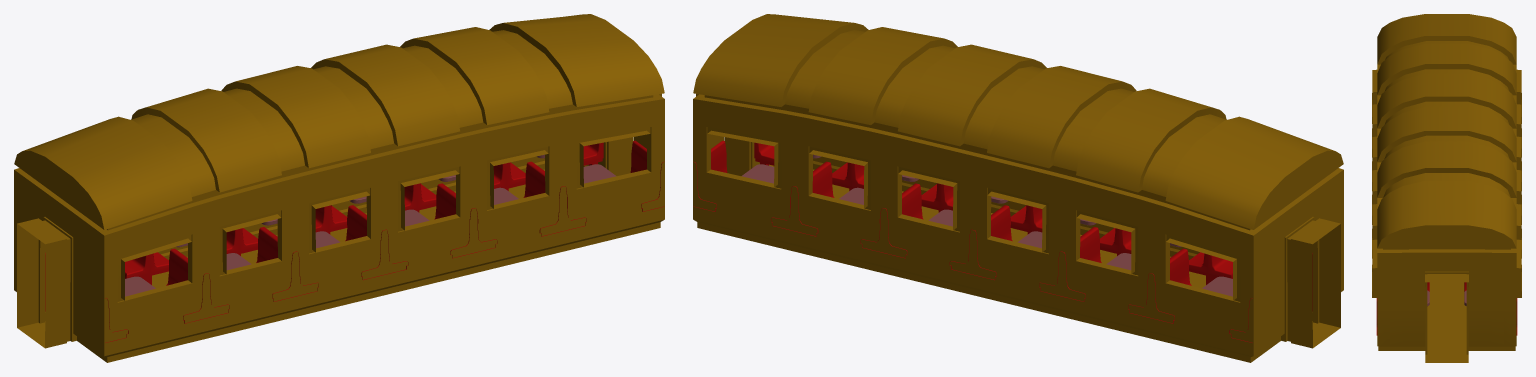
The model's file is GJ_Pass_Car.fbx.
3 renders of one model, left to right at view 1: azimuth 30°, elevation 25°; view 2: azimuth 150°, elevation 25°; view 3: azimuth 270°, elevation 25°, orthographic. The views are drawn at different scales.
Parts seen in each view (by area): view 1: Passenger_Car, Center_Seats, Tables, Corner_Seats; view 2: Passenger_Car, Center_Seats, Tables, Corner_Seats; view 3: Passenger_Car, Corner_Seats.
Part boxes in pixels (box(x1,y1,x2,y2)): Passenger_Car: box(14, 14, 664, 362); Center_Seats: box(125, 161, 586, 323); Tables: box(125, 154, 616, 296); Corner_Seats: box(45, 140, 664, 342); Passenger_Car: box(693, 14, 1343, 362); Center_Seats: box(771, 161, 1232, 323); Tables: box(741, 154, 1232, 296); Corner_Seats: box(693, 140, 1312, 342); Passenger_Car: box(1372, 14, 1521, 362); Corner_Seats: box(1376, 300, 1517, 335).
Bounding box in the file's own units: 39.17 × 11.38 × 10.67.
